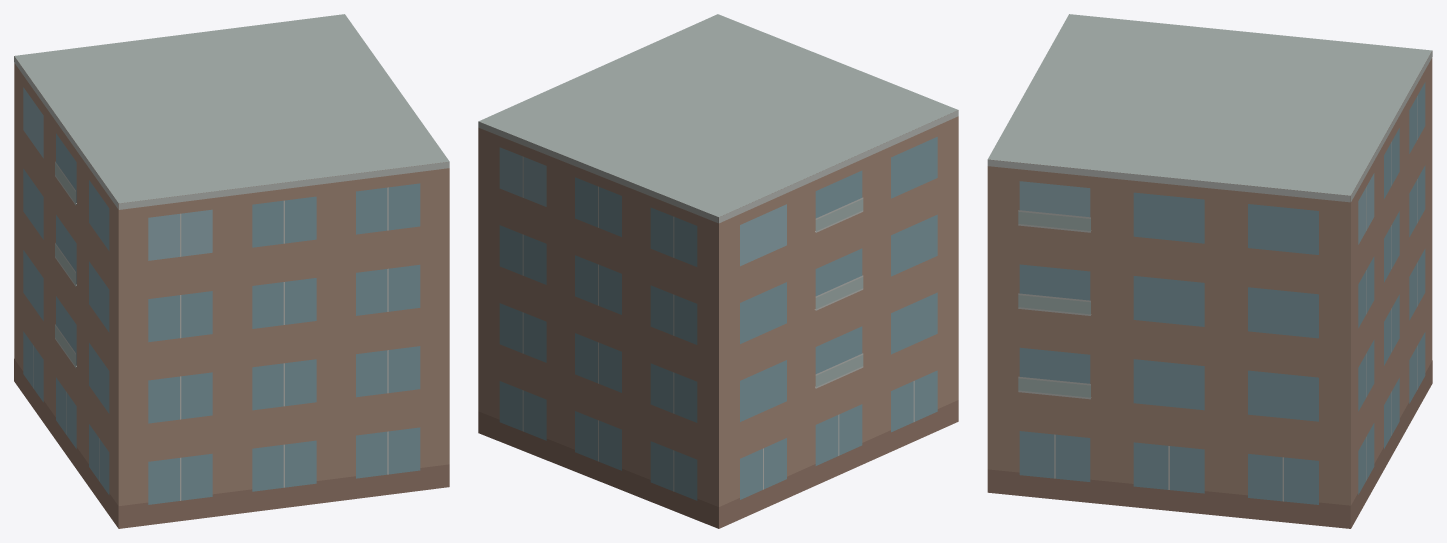
File: residential-d8c08e74-f246-4a74-97f3-4e1a75305562.glb
The picture shows the model from 3 angles, left to right: view 1: azimuth 30°, elevation 25°; view 2: azimuth 150°, elevation 25°; view 3: azimuth 270°, elevation 25°; orthographic projection. The views are drawn at different scales.
Parts seen in each view (by area): view 1: residential-d8c08e74-f246-4a74-97f3-4e1a75305562.tmp; view 2: residential-d8c08e74-f246-4a74-97f3-4e1a75305562.tmp; view 3: residential-d8c08e74-f246-4a74-97f3-4e1a75305562.tmp.
Part boxes in pixels (x1,y1,x2,y2): residential-d8c08e74-f246-4a74-97f3-4e1a75305562.tmp: (14,14,449,528); residential-d8c08e74-f246-4a74-97f3-4e1a75305562.tmp: (478,14,958,528); residential-d8c08e74-f246-4a74-97f3-4e1a75305562.tmp: (987,14,1432,528).
Bounding box in the file's own units: 14.28 × 12.2 × 14.77.
